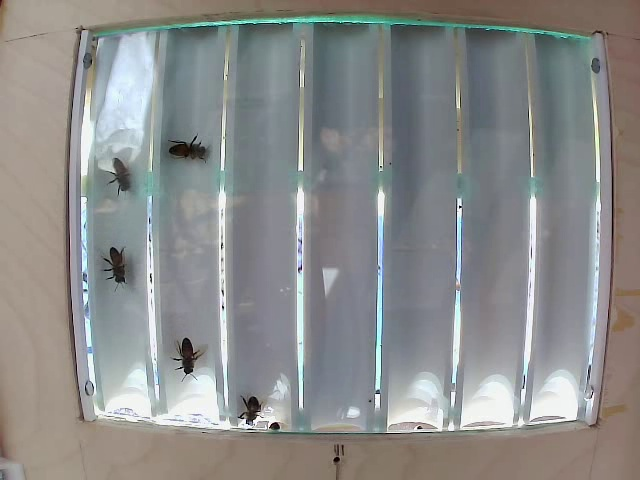bee: (90, 246, 143, 308), (104, 152, 151, 203), (176, 131, 218, 181), (163, 328, 204, 375)
